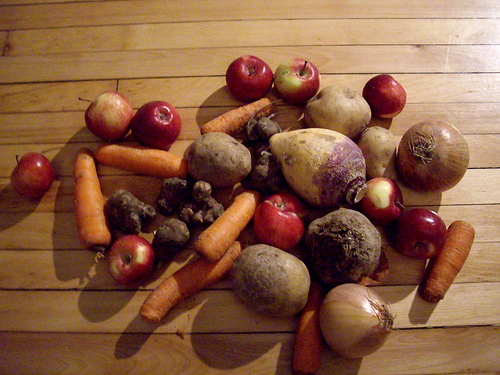turnip: (267, 125, 368, 210)
